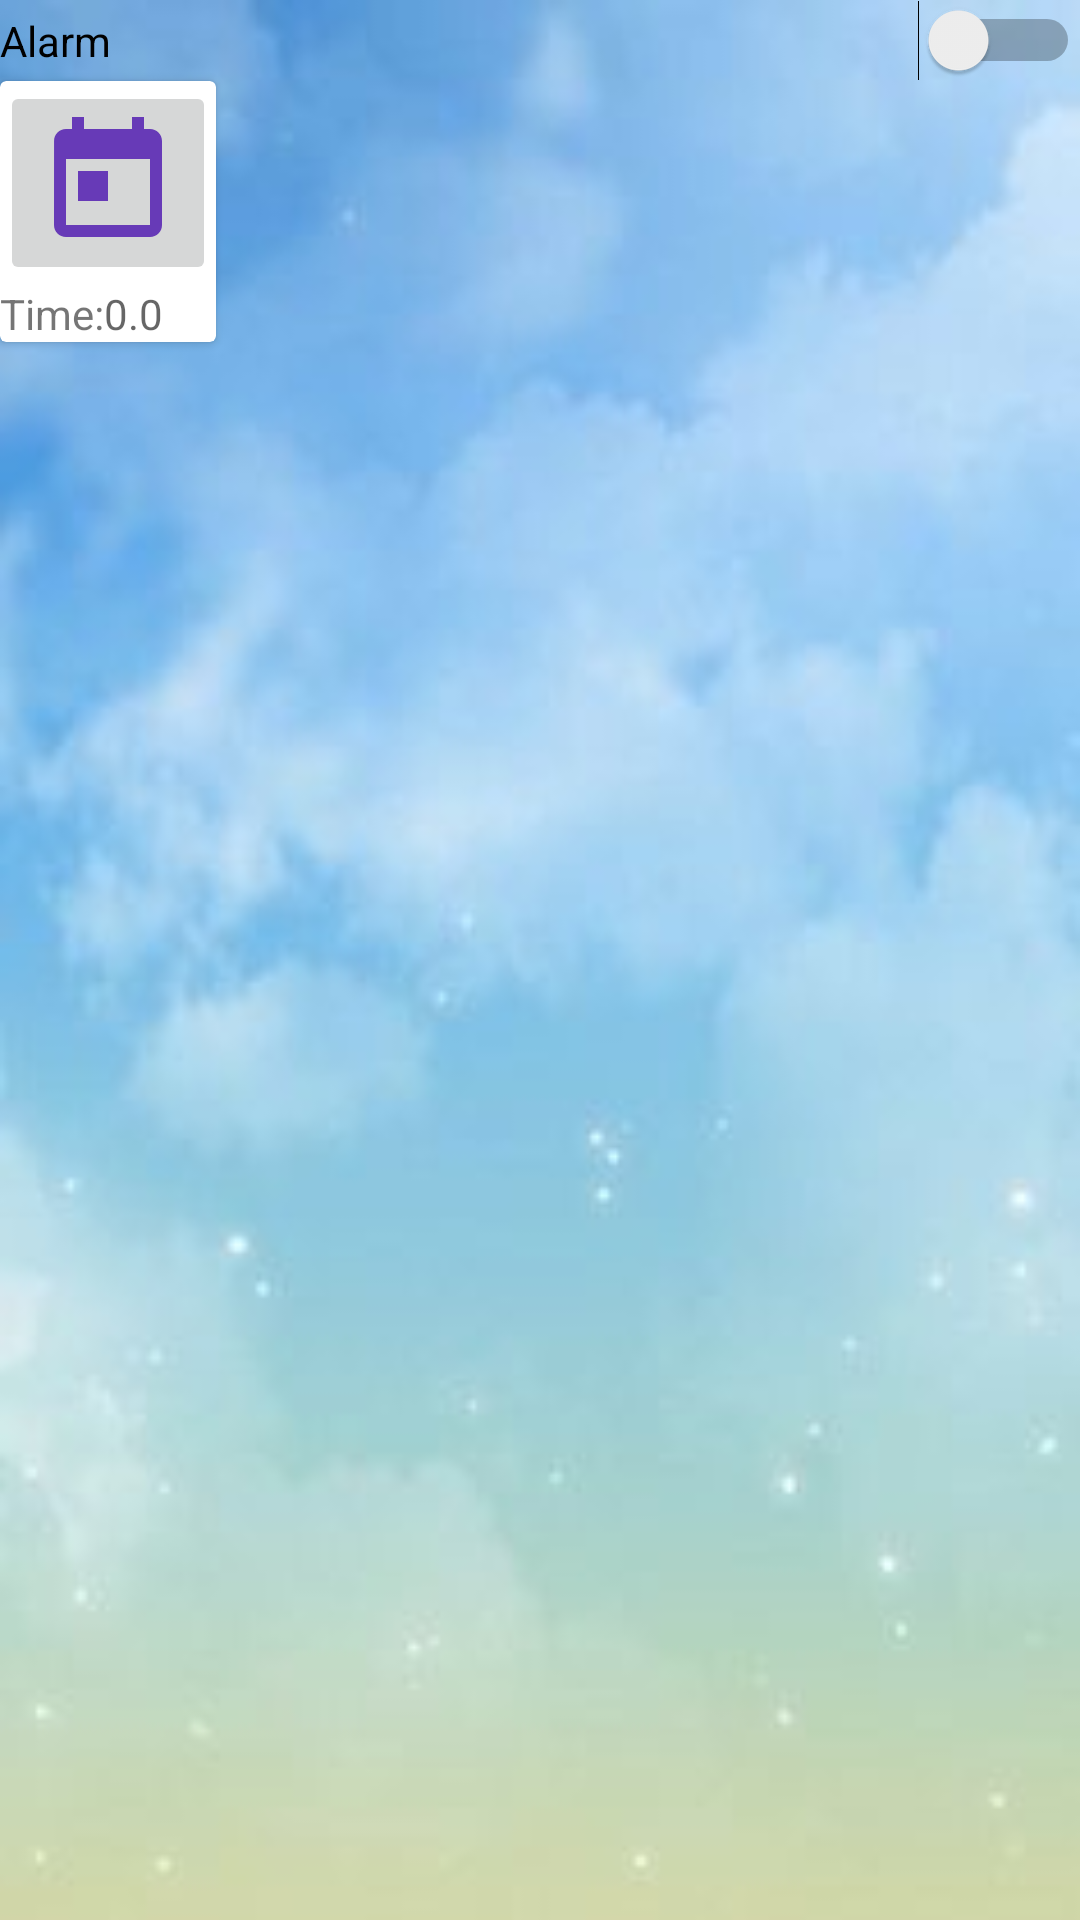

Where to tap for icons on this 1080px x 1920px app screen, as [x,y]:
one day: [108,183]
